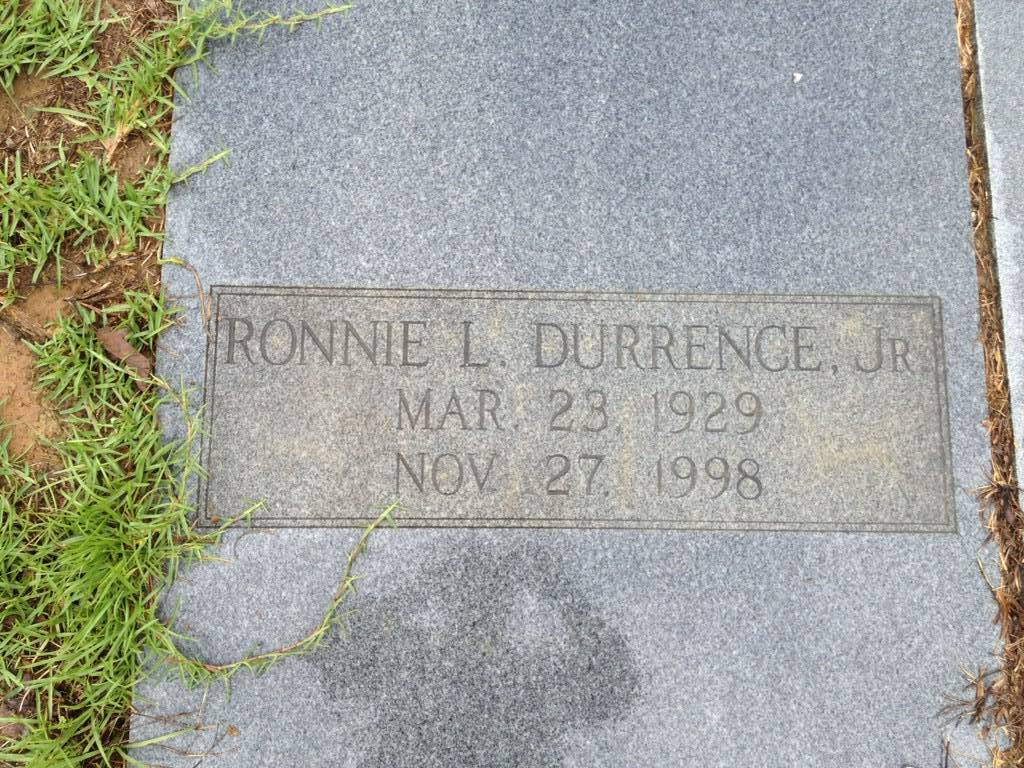flat: (141, 7, 1000, 768)
